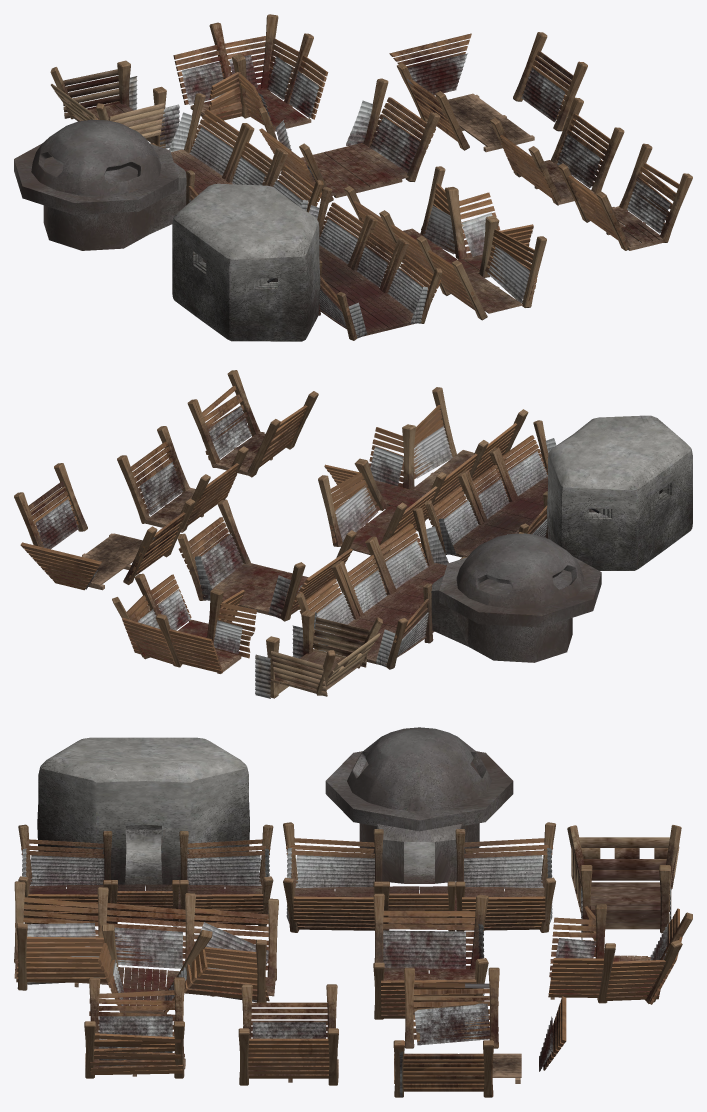
Rendered from trenchset.glb.
3 renders of one model, top to bottom at view 1: azimuth 30°, elevation 25°; view 2: azimuth 150°, elevation 25°; view 3: azimuth 270°, elevation 25°, orthographic. The views are drawn at different scales.
Visible parts, largest first — view 1: Object359_Bunker section_0, Sphere002_Bunker Type 2 section_0, Object173_Three way section_0, Object198_Corner section_0, Box108_Wide section_0, Box019_Straight section_0, Plane011_Straight section(unedited)_0, Object204_Elavated Pit Section_0, Plane007_Left section_0, Plane015_End section_0, Box092_Floor section_0, Box088_Right section_0; view 2: Object359_Bunker section_0, Sphere002_Bunker Type 2 section_0, Object173_Three way section_0, Object198_Corner section_0, Box108_Wide section_0, Object204_Elavated Pit Section_0, Box019_Straight section_0, Plane011_Straight section(unedited)_0, Plane007_Left section_0, Plane015_End section_0, Box088_Right section_0, Box092_Floor section_0; view 3: Object359_Bunker section_0, Sphere002_Bunker Type 2 section_0, Object173_Three way section_0, Box108_Wide section_0, Object204_Elavated Pit Section_0, Object198_Corner section_0, Box019_Straight section_0, Plane011_Straight section(unedited)_0, Box088_Right section_0, Plane007_Left section_0, Plane015_End section_0, Box092_Floor section_0.
Part boxes in pixels (<box>): Object359_Bunker section_0: <box>172,183,442,341</box>; Sphere002_Bunker Type 2 section_0: <box>14,93,323,250</box>; Object173_Three way section_0: <box>344,166,546,320</box>; Object198_Corner section_0: <box>173,14,328,131</box>; Box108_Wide section_0: <box>258,78,440,202</box>; Box019_Straight section_0: <box>558,143,692,250</box>; Plane011_Straight section(unedited)_0: <box>490,97,624,205</box>; Object204_Elavated Pit Section_0: <box>50,60,179,148</box>; Plane007_Left section_0: <box>513,32,587,131</box>; Plane015_End section_0: <box>389,33,471,95</box>; Box092_Floor section_0: <box>448,93,534,152</box>; Box088_Right section_0: <box>397,63,469,150</box>; Object359_Bunker section_0: <box>424,415,692,570</box>; Sphere002_Bunker Type 2 section_0: <box>296,507,601,669</box>; Object173_Three way section_0: <box>318,387,528,555</box>; Object198_Corner section_0: <box>112,573,256,673</box>; Box108_Wide section_0: <box>177,499,356,621</box>; Object204_Elavated Pit Section_0: <box>255,610,382,698</box>; Box019_Straight section_0: <box>187,370,318,477</box>; Plane011_Straight section(unedited)_0: <box>117,426,248,532</box>; Plane007_Left section_0: <box>14,463,87,549</box>; Plane015_End section_0: <box>20,542,101,590</box>; Box088_Right section_0: <box>123,498,195,584</box>; Box092_Floor section_0: <box>82,533,142,590</box>; Object359_Bunker section_0: <box>18,737,273,926</box>; Sphere002_Bunker Type 2 section_0: <box>283,727,555,932</box>; Object173_Three way section_0: <box>14,881,278,1014</box>; Box108_Wide section_0: <box>373,893,488,1019</box>; Object204_Elavated Pit Section_0: <box>567,825,681,939</box>; Object198_Corner section_0: <box>548,904,692,1004</box>; Box019_Straight section_0: <box>84,977,185,1078</box>; Plane011_Straight section(unedited)_0: <box>238,984,338,1085</box>; Box088_Right section_0: <box>403,967,499,1048</box>; Plane007_Left section_0: <box>393,1040,493,1097</box>; Plane015_End section_0: <box>539,996,566,1071</box>; Box092_Floor section_0: <box>394,1053,521,1083</box>.
Bounding box in the file's own units: 22.62 × 4.99 × 21.84.
Materials: 12 (12 with a texture image).
